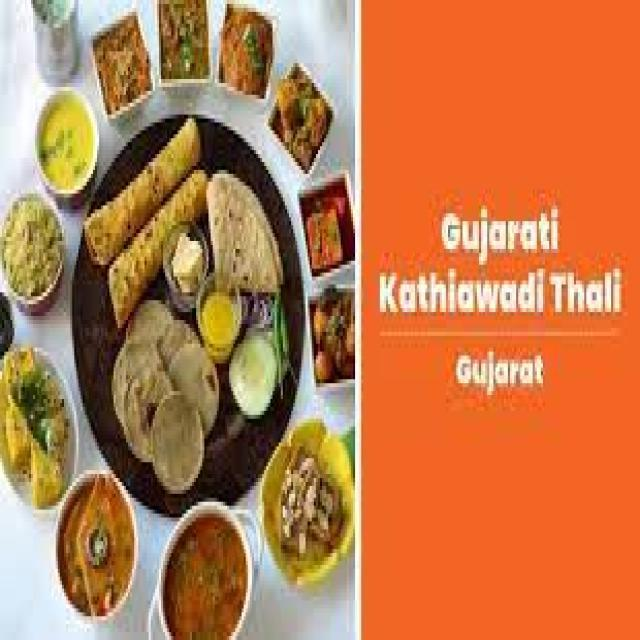dal: (199, 289, 239, 360)
papad: (209, 169, 285, 310)
roti: (204, 177, 285, 301)
sambar-rasam: (153, 509, 253, 640), (155, 0, 213, 93)
veg-fry: (48, 471, 143, 616)
